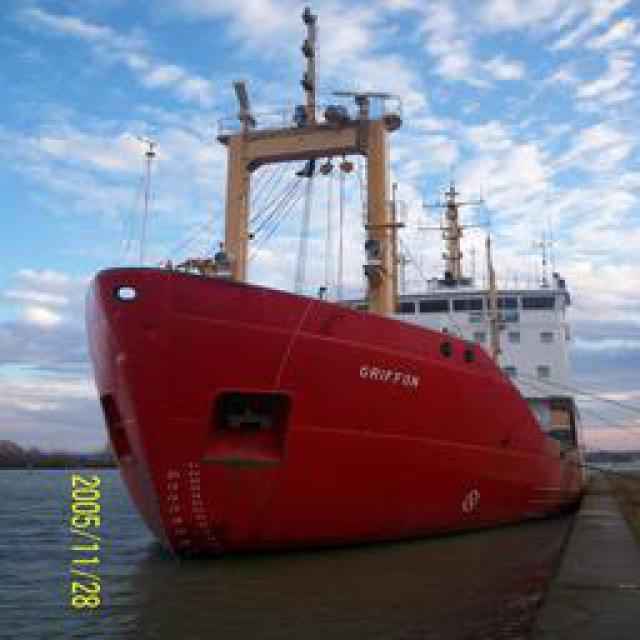Ship: (81, 229, 584, 559)
